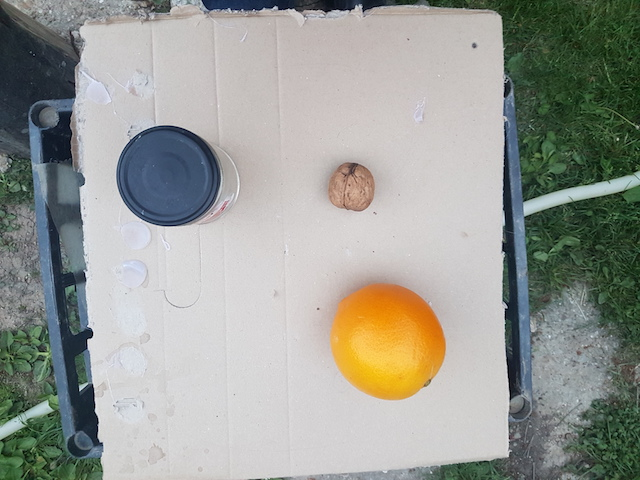nut: (327, 160, 378, 215)
orange: (327, 282, 449, 401)
recipient: (115, 126, 220, 231)
